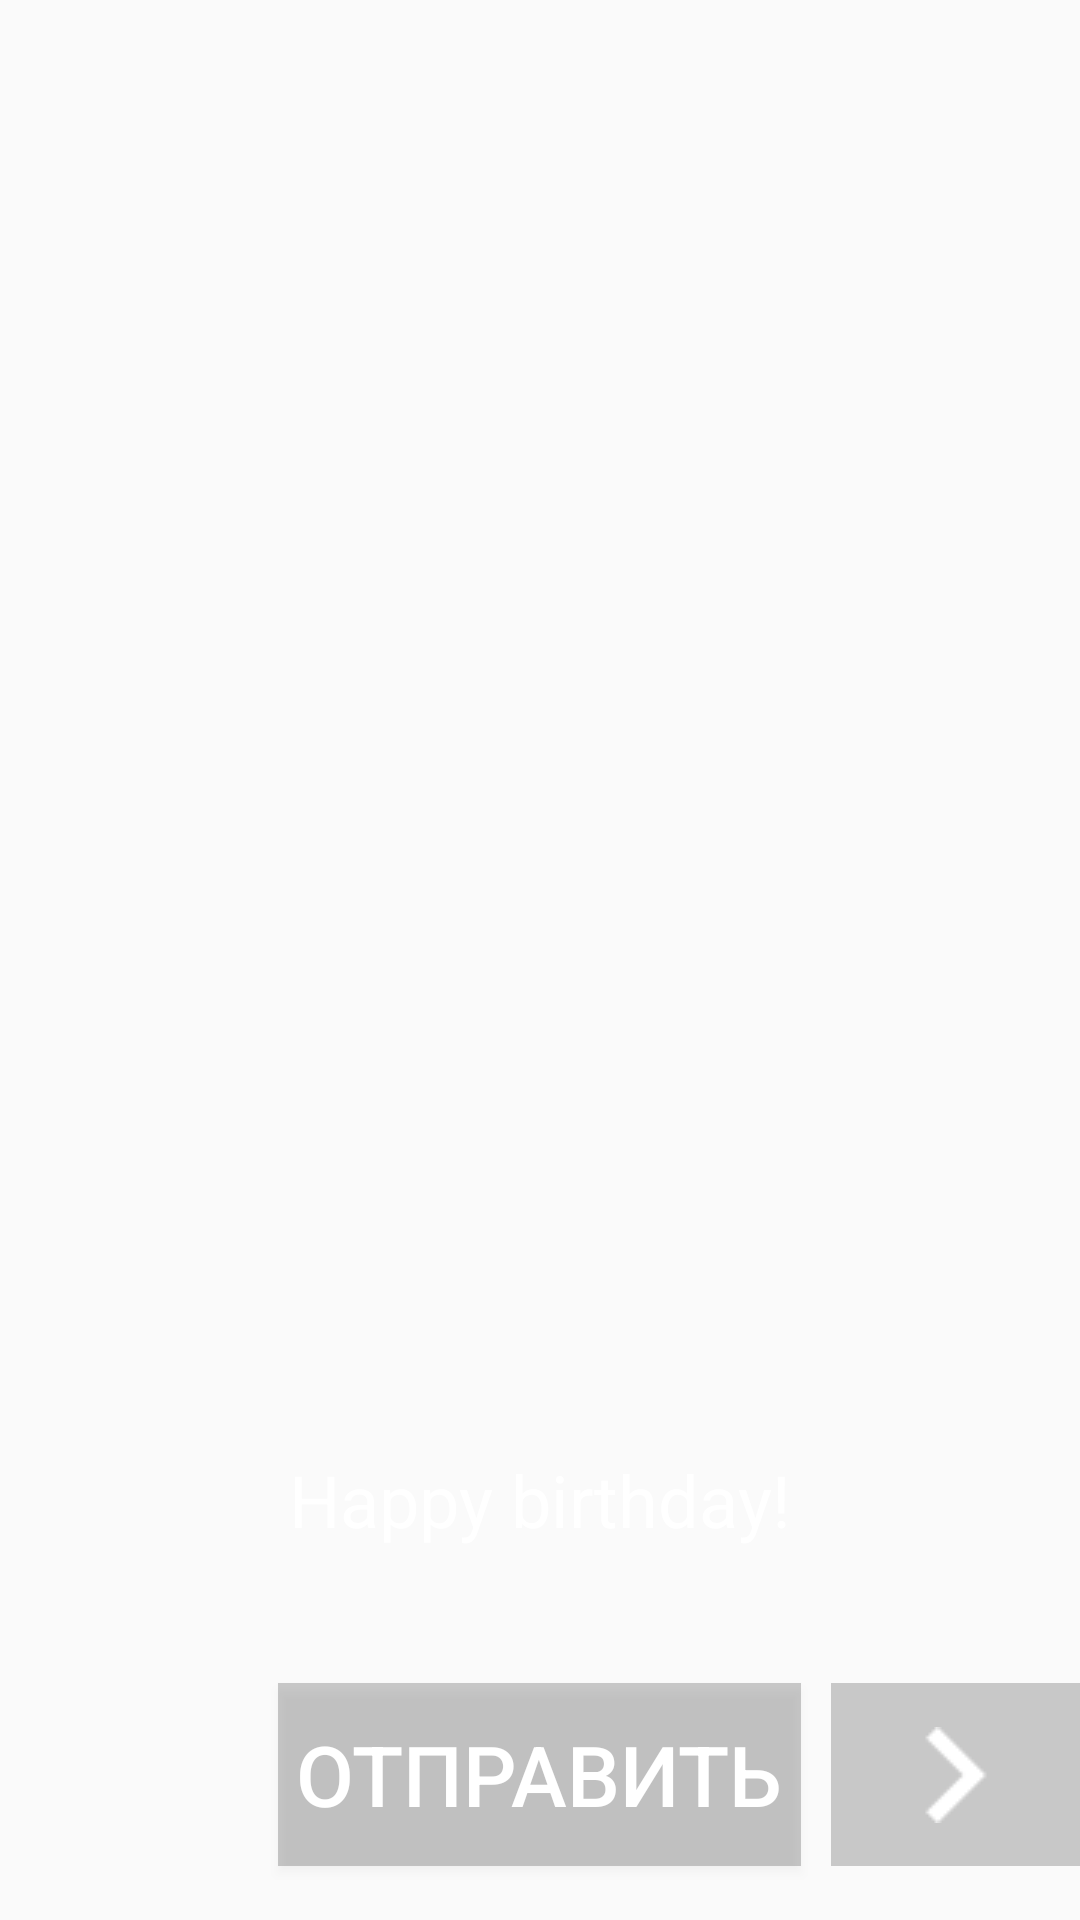

Icon click points for this 1080 x 1920 phone screenshot, format (x=x, y=y):
Next!: (x=955, y=1774)
